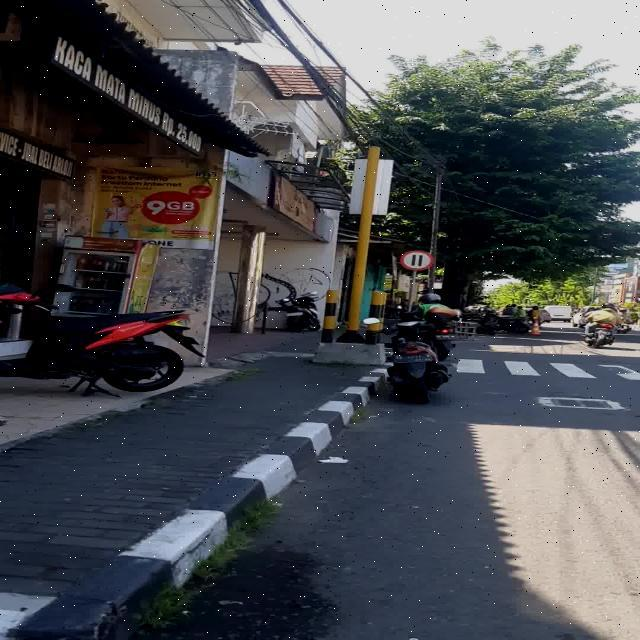Larangan Muatan - 10 ton: (400, 250, 433, 270)
